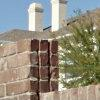Chimney: (23, 2, 50, 38)
